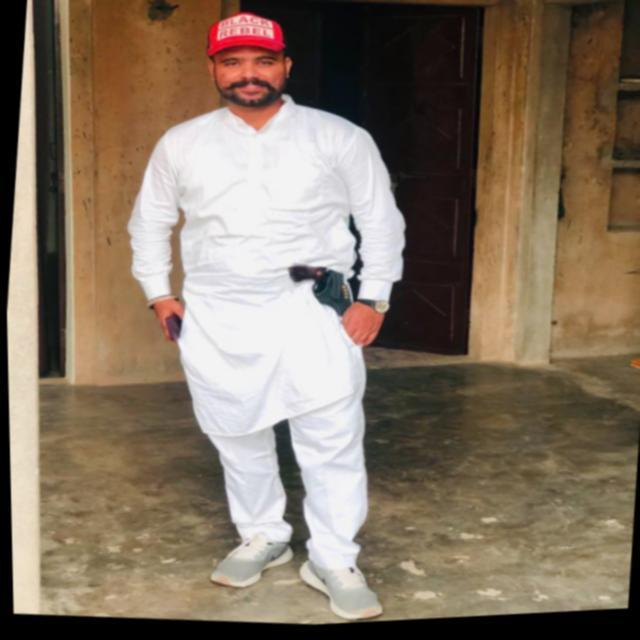weapon: (279, 261, 365, 337)
